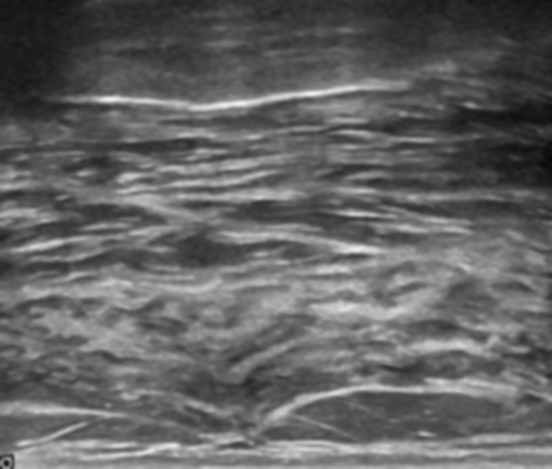Normal: (2, 0, 552, 468)
